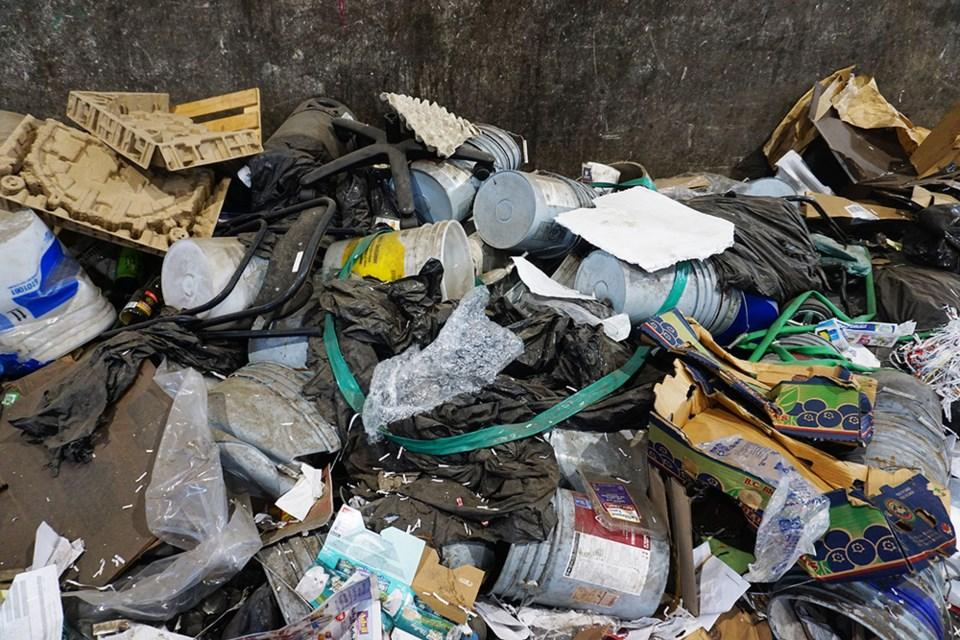garbage: (0, 82, 960, 640)
